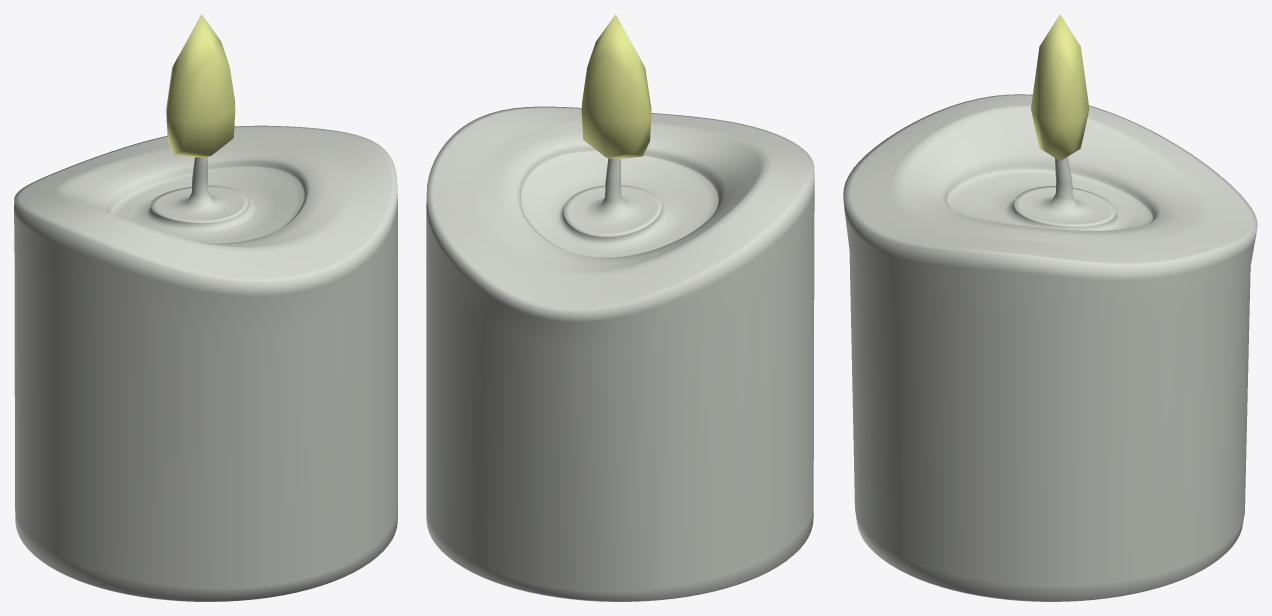
Rendered from lazhu2.fbx.
The picture shows the model from 3 angles, left to right: view 1: azimuth 30°, elevation 25°; view 2: azimuth 150°, elevation 25°; view 3: azimuth 270°, elevation 25°; orthographic projection.
Parts seen in each view (by area): view 1: Obje_02, Obje_03; view 2: Obje_02, Obje_03; view 3: Obje_02, Obje_03.
Boxes of the visible parts, x1,y1,x2,y2 form: Obje_02: [14, 125, 397, 601]; Obje_03: [166, 14, 235, 157]; Obje_02: [426, 106, 814, 601]; Obje_03: [581, 14, 651, 158]; Obje_02: [843, 94, 1257, 601]; Obje_03: [1031, 14, 1089, 160].
Size of the model in its own units: 3.32 by 4.84 by 3.58.
